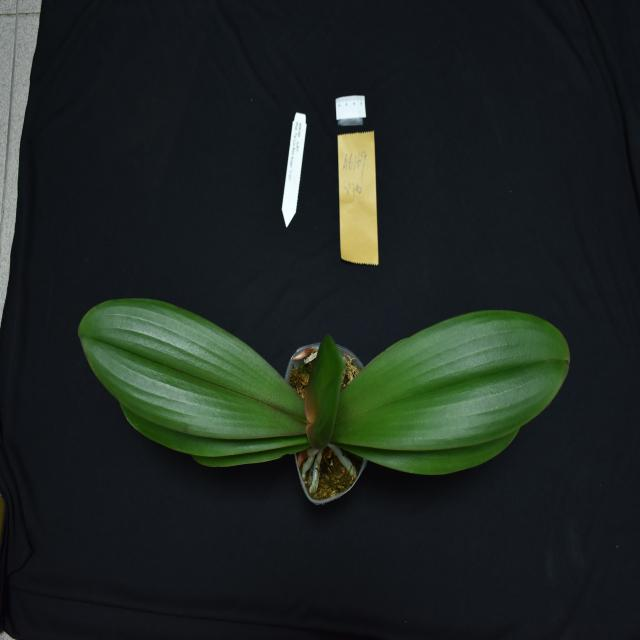leaf: (77, 302, 309, 462), (344, 312, 570, 474), (313, 331, 345, 444)
